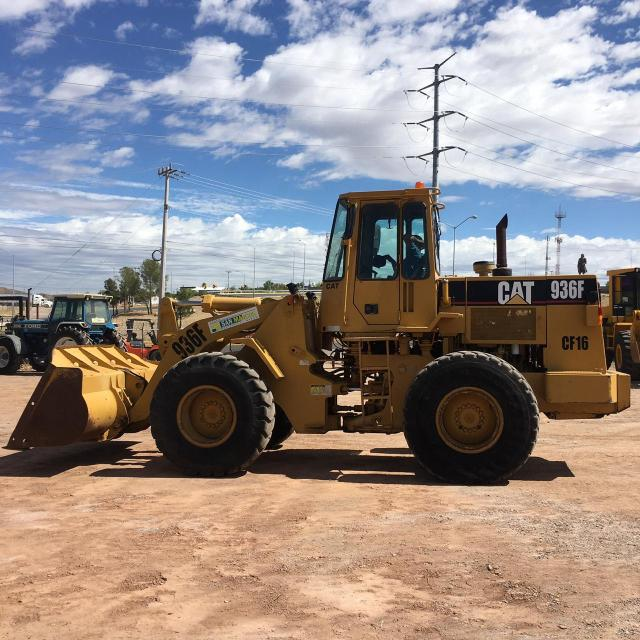buldozerpayloadergrader: (6, 176, 634, 488)
